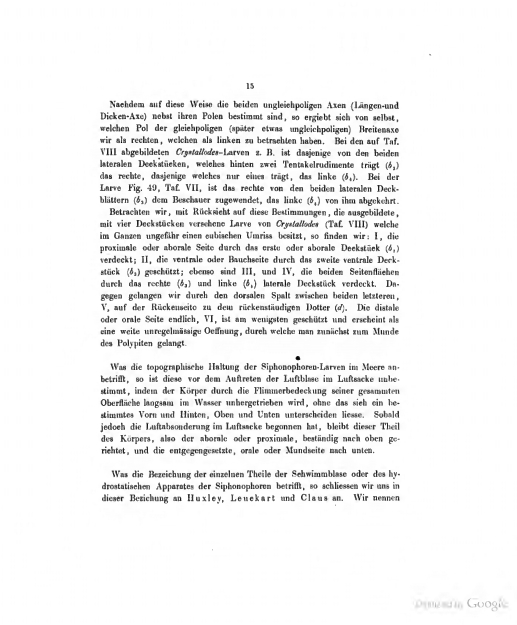MainZone: (92, 93, 409, 509)
NoiseZone: (404, 589, 517, 625)
NumberingZone_page: (234, 77, 264, 95)
